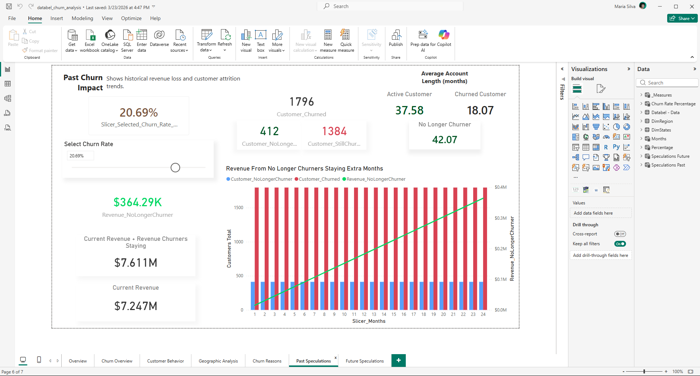

What the dashboard file says about the page in this screenshot:
{"tool":"powerbi","page":{"name":"Future Speculations","canvas":[1280,720],"ordinal":9},"visuals":[{"type":"card","fields":{"Values":["Avg(Databel - Data.Account Length (in months))"]},"box":[9.5,535.7,332.4,184.2],"z":1},{"type":"actionButton","box":[0,0,100,40],"z":2},{"type":"columnChart","fields":{"Category":["Months.MonthNumber"],"Y":["Months.LostFutureRevenue"]},"box":[0,0,733.7,424.5],"z":3},{"type":"cardVisual","fields":{"Data":["Databel - Data.CumulativeLostFutureRevenue"]},"box":[320.8,551.6,328.2,168.3],"z":4},{"type":"card","fields":{"Values":["Sum(Months.Customers lost)"]},"box":[9.8,437.7,277.9,145.1],"z":5},{"type":"slicer","fields":{"Values":["Months.MonthNumber"]},"box":[852.3,0,427.7,108],"z":6},{"type":"card","fields":{"Values":["Sum(Months.Customers Remaining)"]},"box":[320.8,424.5,285.9,152.5],"z":7},{"type":"tableEx","fields":{"Values":["Months.MonthNumber","Months.LostFutureRevenue","Databel - Data.CumulativeLostFutureRevenue","Sum(Months.Surviving Revenue)"]},"box":[733.7,156.7,525.1,563.2],"z":8}]}

Visuals, with their boxes on the page's 1280x720 design canvas (x1, y1, x2, y2). These are canvas units, not pixel positions in the 700x376 screenshot, which may show the page scaled, cropped or inside an application window:
card - Avg(Databel - Data.Account Length (in months)): box(10, 536, 342, 720)
actionButton: box(0, 0, 100, 40)
columnChart - Months.MonthNumber x Months.LostFutureRevenue: box(0, 0, 734, 424)
cardVisual - Databel - Data.CumulativeLostFutureRevenue: box(321, 552, 649, 720)
card - Sum(Months.Customers lost): box(10, 438, 288, 583)
slicer - Months.MonthNumber: box(852, 0, 1280, 108)
card - Sum(Months.Customers Remaining): box(321, 424, 607, 577)
tableEx - Months.MonthNumber x Months.LostFutureRevenue: box(734, 157, 1259, 720)
